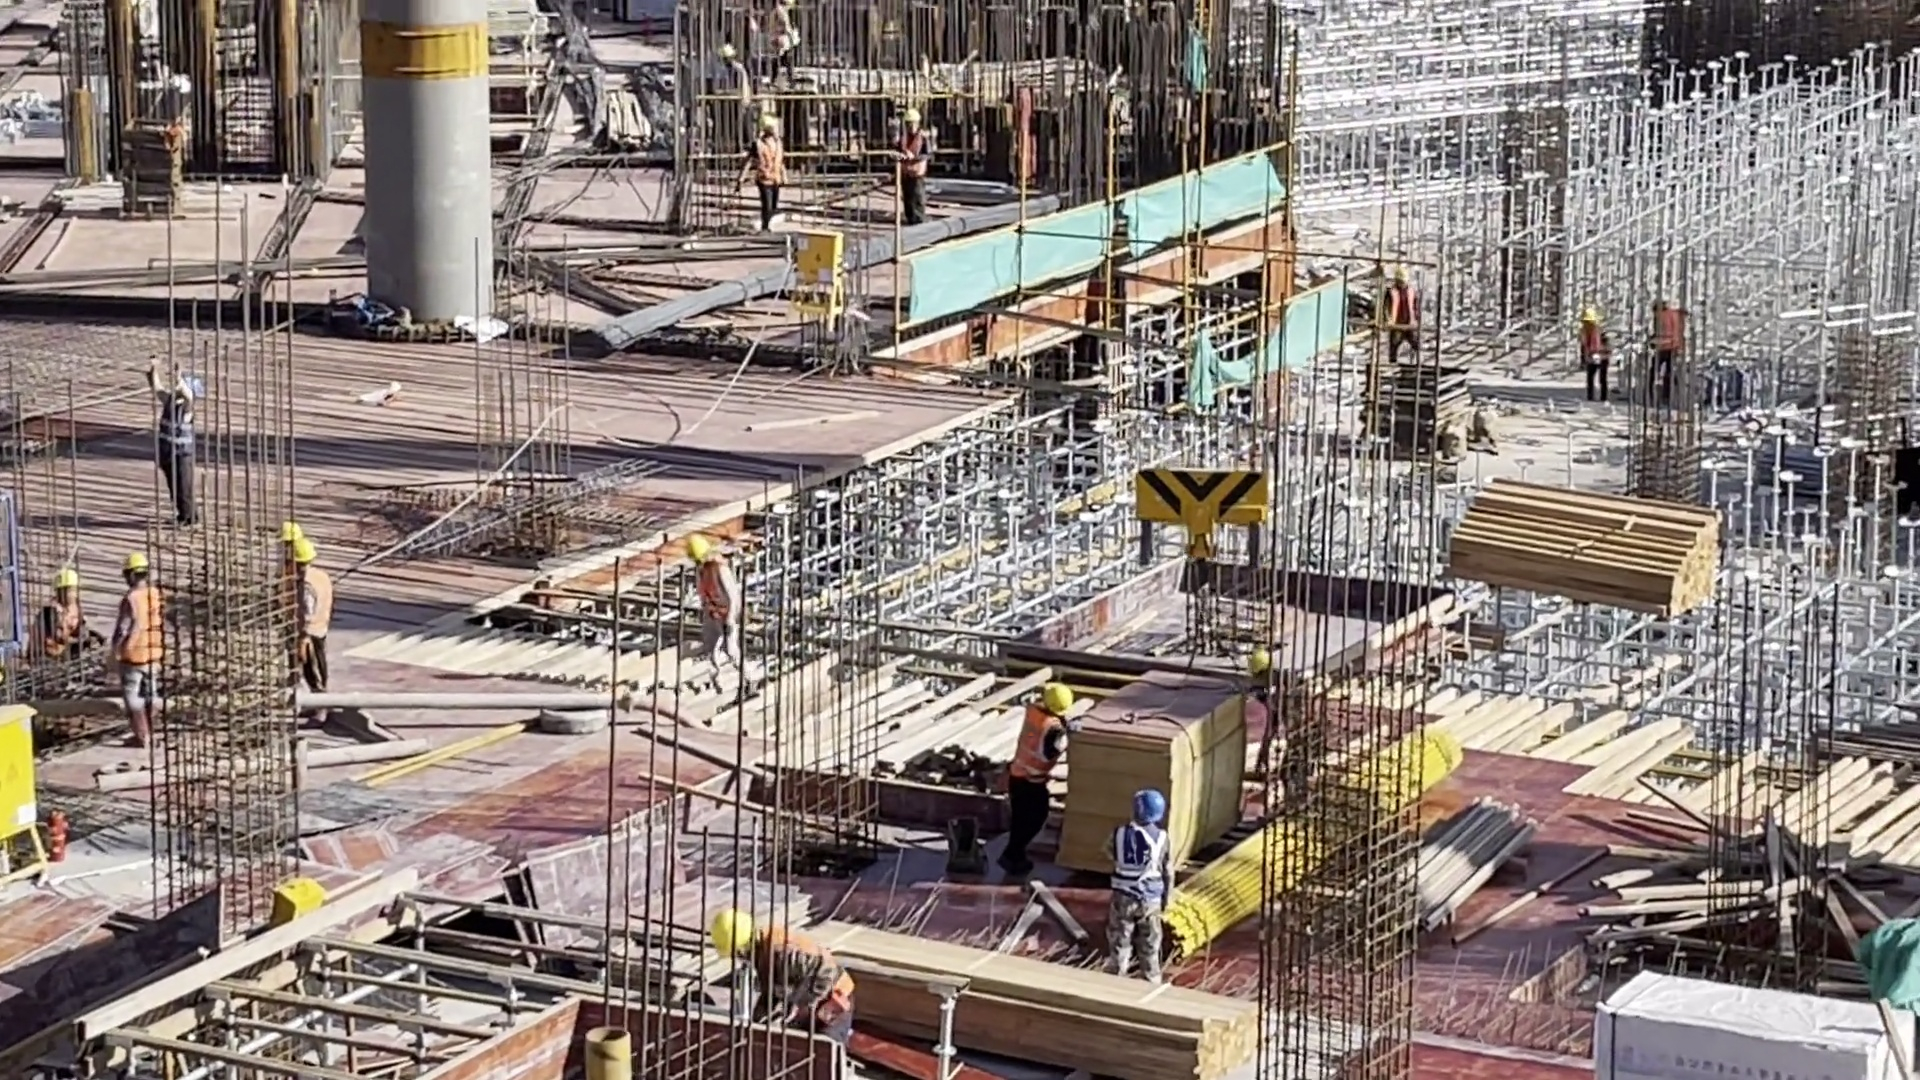board: (1056, 647, 1249, 861)
ebox: (1, 706, 69, 837), (791, 222, 873, 294), (284, 886, 324, 934)
helmet: (288, 504, 319, 566), (1229, 646, 1279, 681), (716, 906, 758, 939), (1036, 681, 1074, 716), (1129, 779, 1164, 814), (54, 569, 84, 604), (129, 561, 173, 584), (184, 377, 211, 407), (759, 117, 791, 141), (684, 537, 726, 554), (1569, 296, 1596, 322), (886, 111, 913, 136), (1384, 261, 1408, 286), (709, 49, 729, 76), (1658, 287, 1671, 317)
hook: (1135, 463, 1266, 587)
person: (709, 909, 866, 1049), (994, 664, 1070, 877), (109, 545, 186, 746), (143, 355, 216, 536), (1109, 784, 1171, 995), (1250, 646, 1331, 809), (684, 526, 750, 692), (301, 538, 349, 703), (38, 553, 98, 673), (268, 515, 314, 670), (743, 105, 794, 238), (891, 110, 948, 221), (1642, 289, 1691, 398), (1384, 261, 1433, 369), (1576, 303, 1614, 405), (721, 44, 756, 153), (766, 1, 806, 84)
rebar: (594, 171, 1076, 358)
vest: (751, 904, 843, 1017), (1106, 821, 1186, 921), (1281, 676, 1333, 786), (706, 569, 753, 677), (1024, 684, 1066, 804), (289, 574, 329, 656), (1638, 314, 1688, 376), (903, 142, 934, 234), (129, 589, 164, 667), (39, 594, 79, 642), (1581, 321, 1611, 381), (1383, 289, 1418, 341), (749, 142, 778, 202), (163, 402, 189, 446), (764, 16, 789, 54)
wood: (793, 916, 1234, 1069), (1442, 500, 1722, 635)
